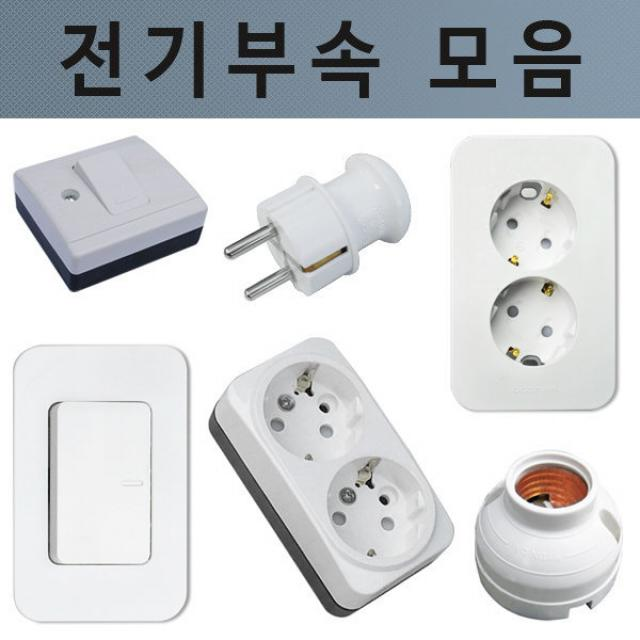typeb: (202, 317, 469, 623), (426, 122, 630, 436)
